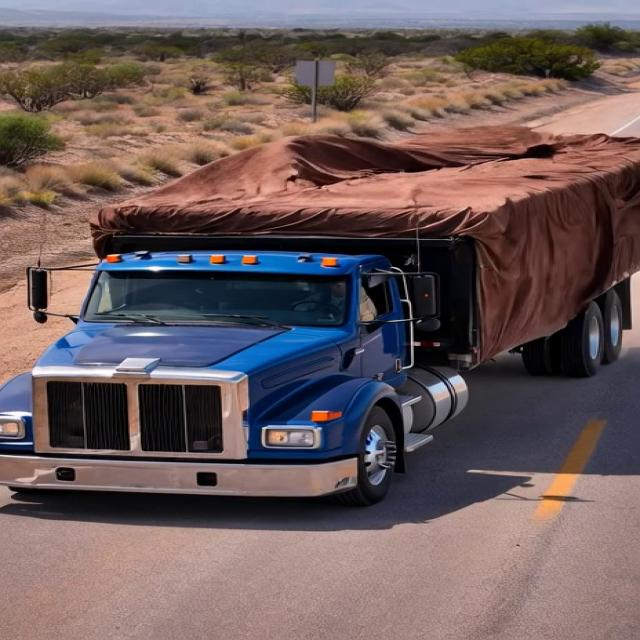Box: (90, 134, 638, 220)
Truck: (4, 108, 631, 500)
